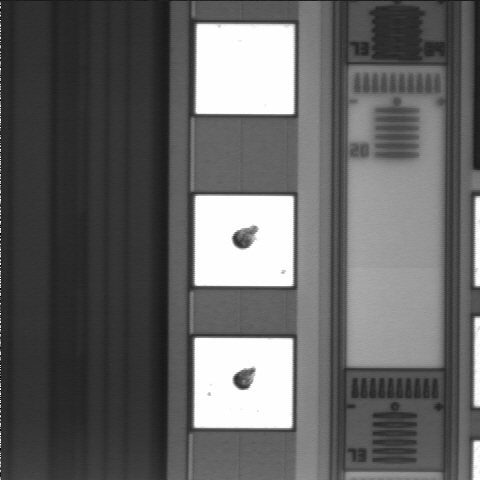pad: (194, 338, 293, 428), (196, 24, 294, 114), (195, 196, 293, 286)
